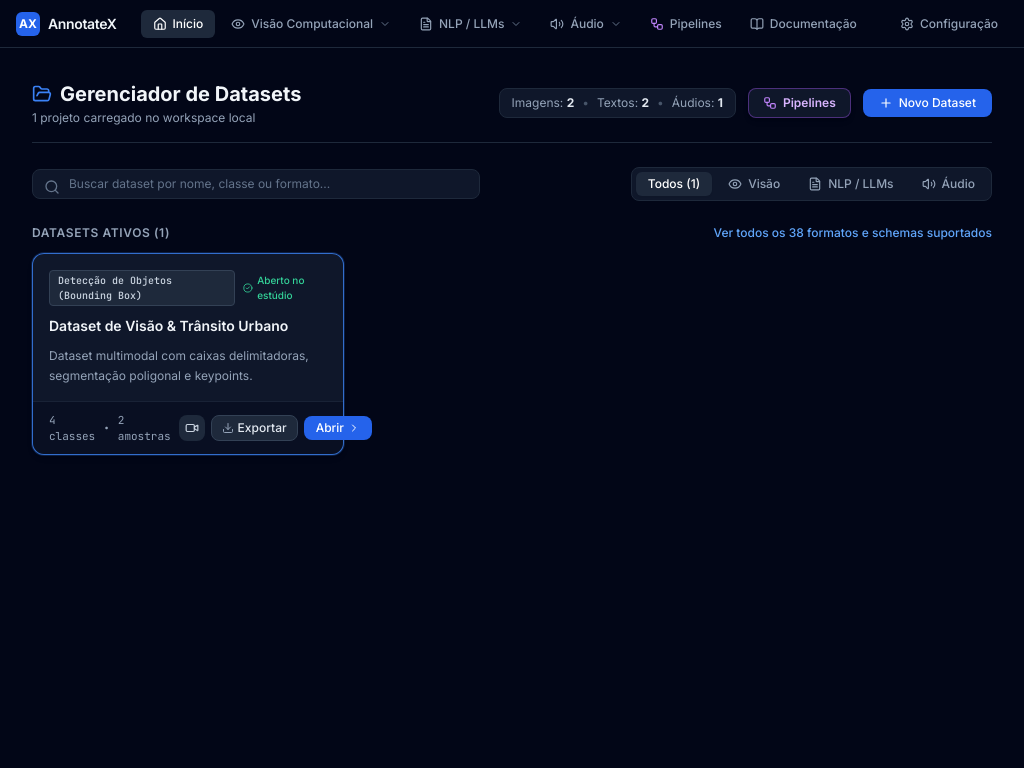
it: AnnotateX Studio (Integration Tests) › navigates seamlessly across Home Hub, NLP Studio, and Audio Studio
Expected: the text "Gerenciador de Datasets" is shown, [60,80,301,108]
Click the button "NLP / LLMs" in the row of "AnnotateX".
click(471, 24)  # box [407,10,534,38]
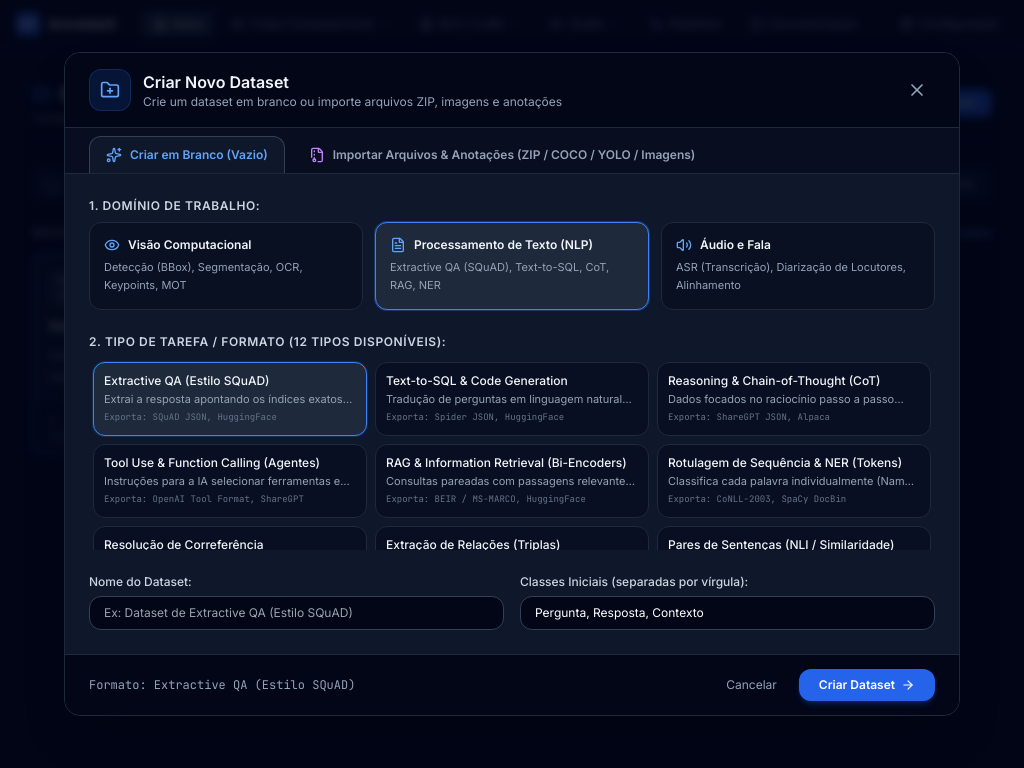
Expected: the heading "Criar Novo Dataset" is shown, [143,72,289,92]
Expected: the text "Extractive QA (SQuAD), Text-to-SQL, CoT, RAG, NER" is shown, [390,259,634,295]
// Create the NLP dataset
Click the button "Criar Dataset".
click(867, 685)  # box [799,669,935,701]
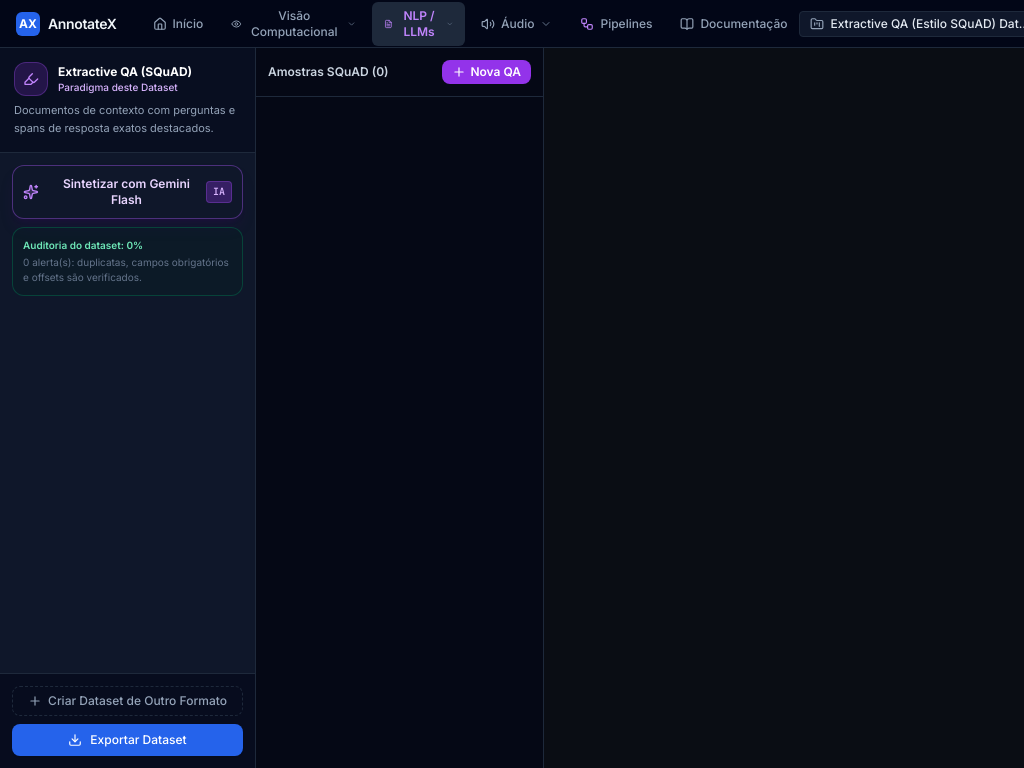
Expected: the text "Extractive QA (SQuAD)" is shown, [58,64,192,80]
Expected: the text "Sintetizar com Gemini Flash" is shown, [63,176,190,207]
Expected: the button "Exportar Dataset" is shown, [12,724,243,756]
